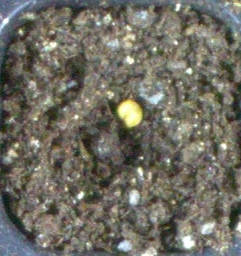chilli seed: (117, 98, 142, 128)
